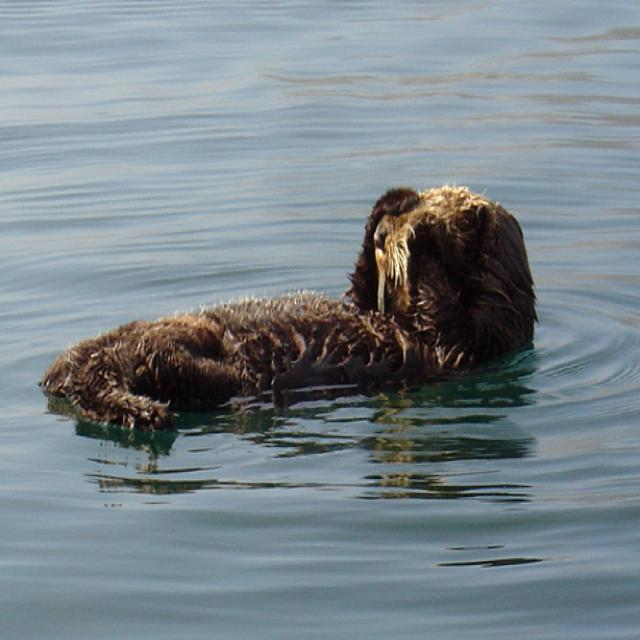otter: (42, 189, 539, 425)
